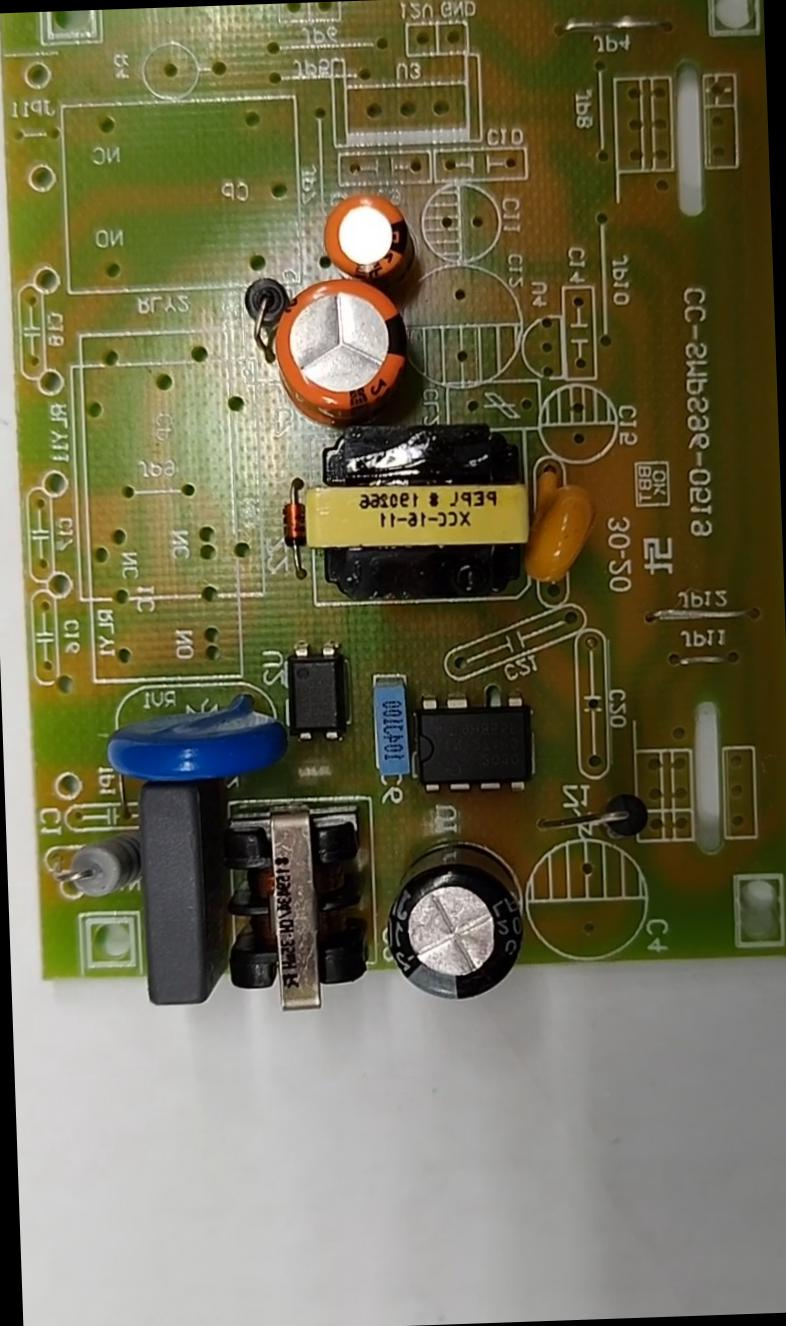Cap1: (270, 275, 409, 423)
Cap2: (324, 191, 406, 274)
Cap3: (386, 835, 519, 1002)
MOSFET: (412, 696, 527, 796)
Mov: (104, 698, 274, 780)
Resistor: (61, 831, 141, 900)
Transformer: (298, 423, 532, 607), (229, 811, 363, 1013)
